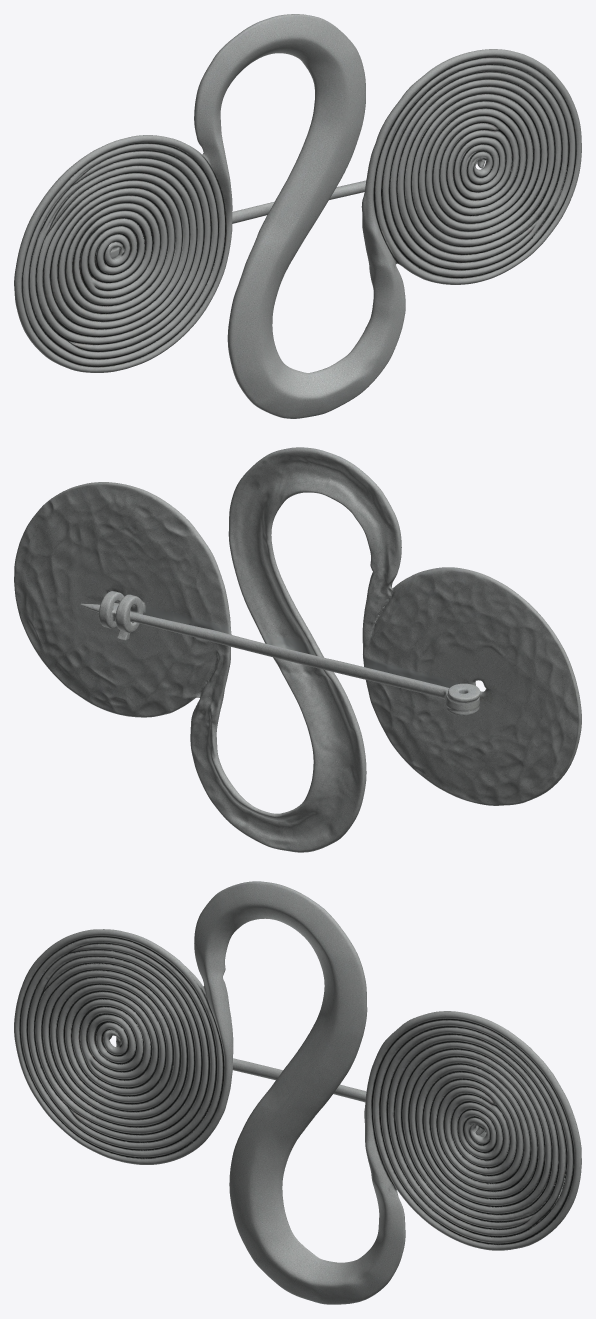
Rendered from spirals-infinity.glb.
The picture shows the model from 3 angles, top to bottom: view 1: azimuth 30°, elevation 25°; view 2: azimuth 150°, elevation 25°; view 3: azimuth 330°, elevation 25°; orthographic projection.
Size of the model in its own units: 1.9 by 1.31 by 0.1546.
Materials: 1 (1 with a texture image).
